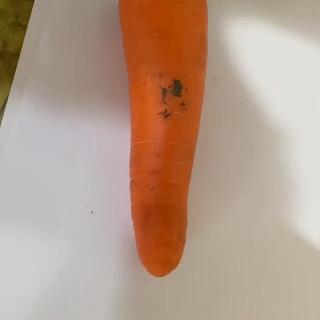carrot: (116, 0, 212, 279)
